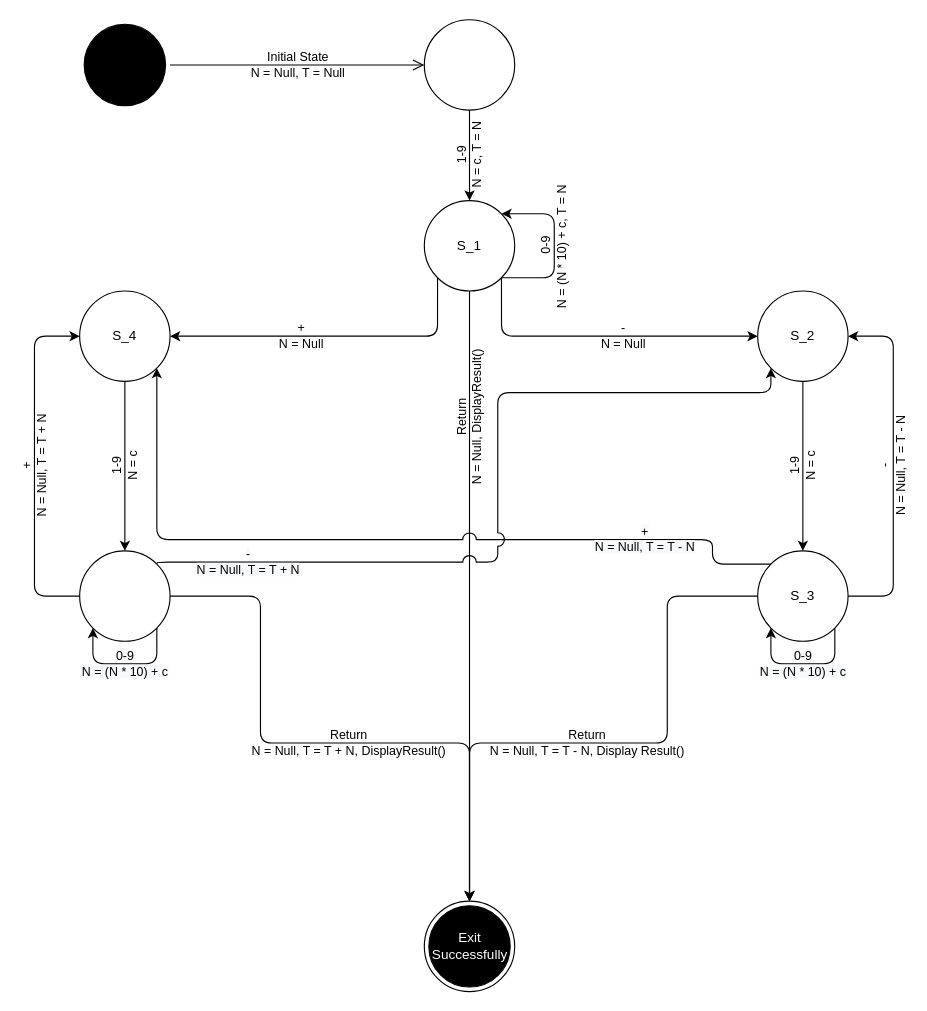
This 927x1011 diagram has some shape labels left out. The shapes that lost their labels are listed below. From the top down, each one's centre as x and y in pixels, then its label:
At pixel 469 64: "S_0".
At pixel 124 595: "S_5".
